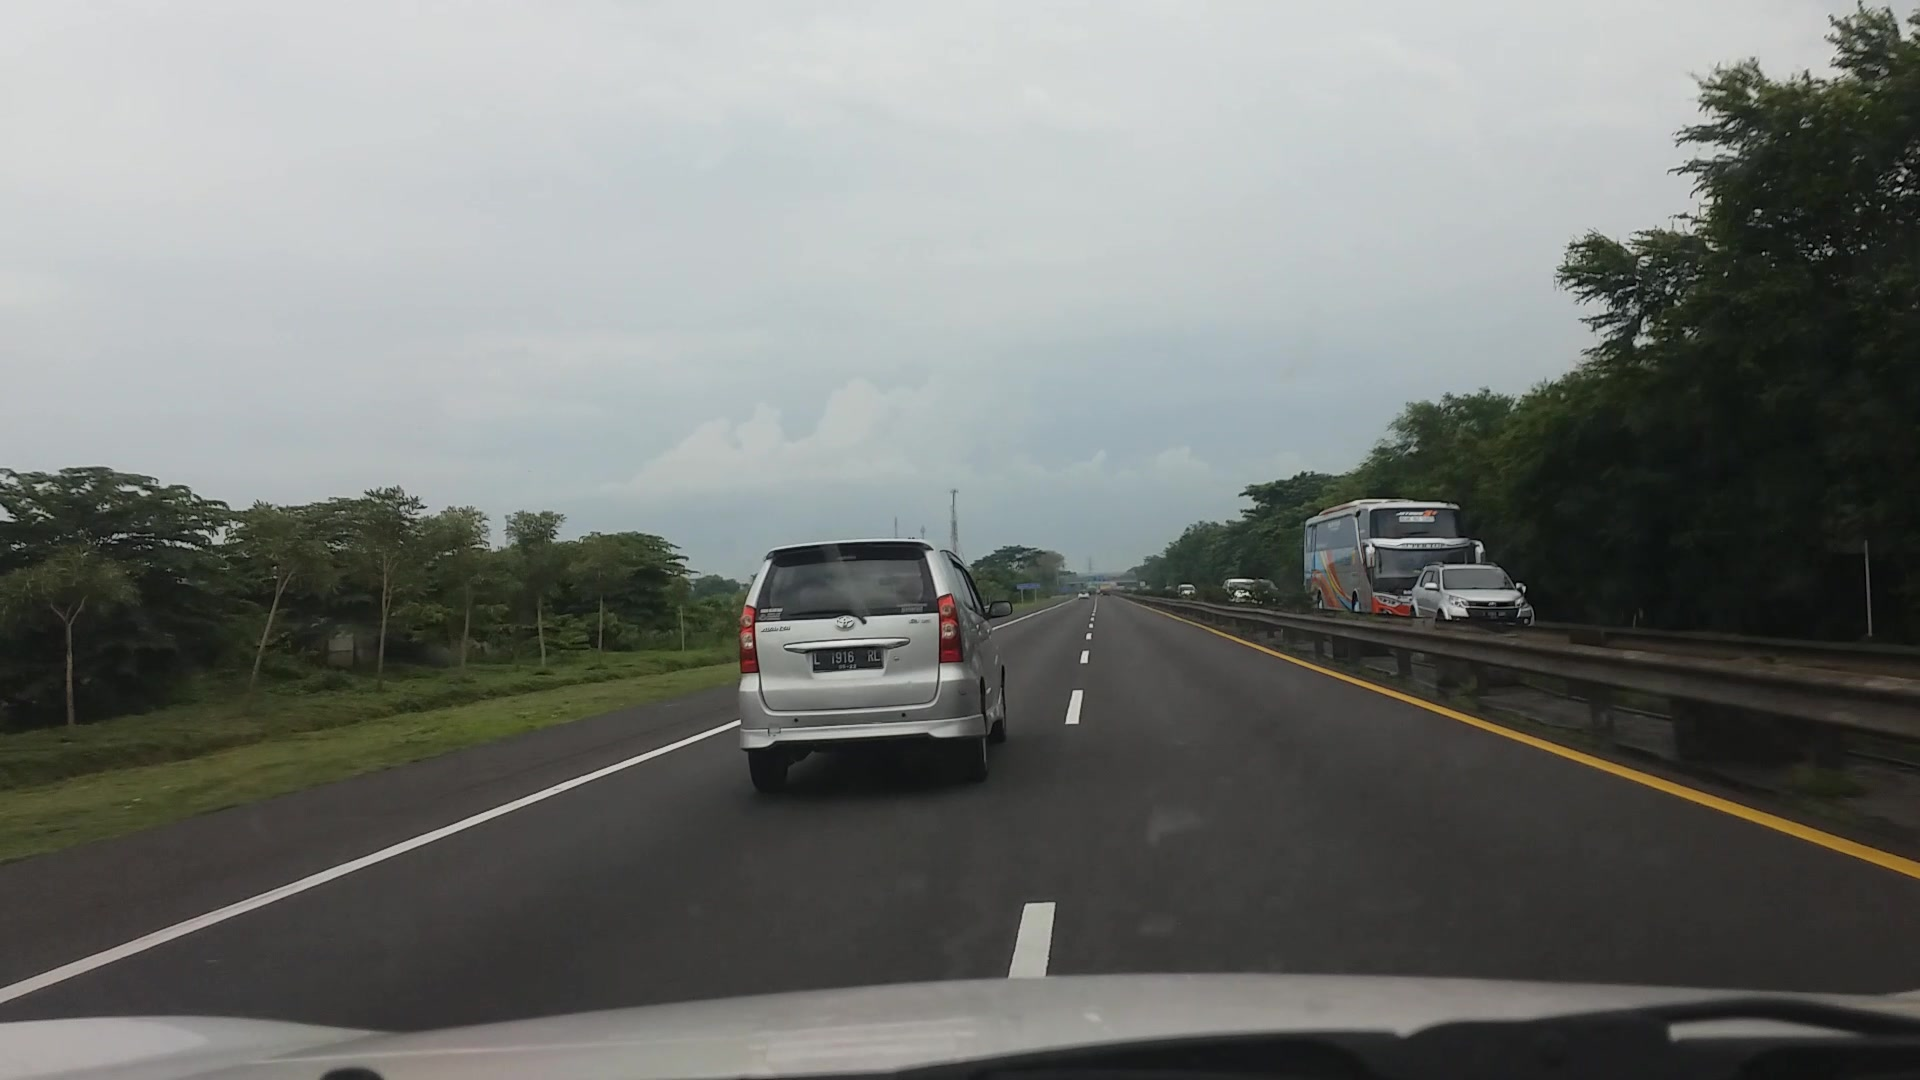plate_positive: (812, 647, 882, 673)
